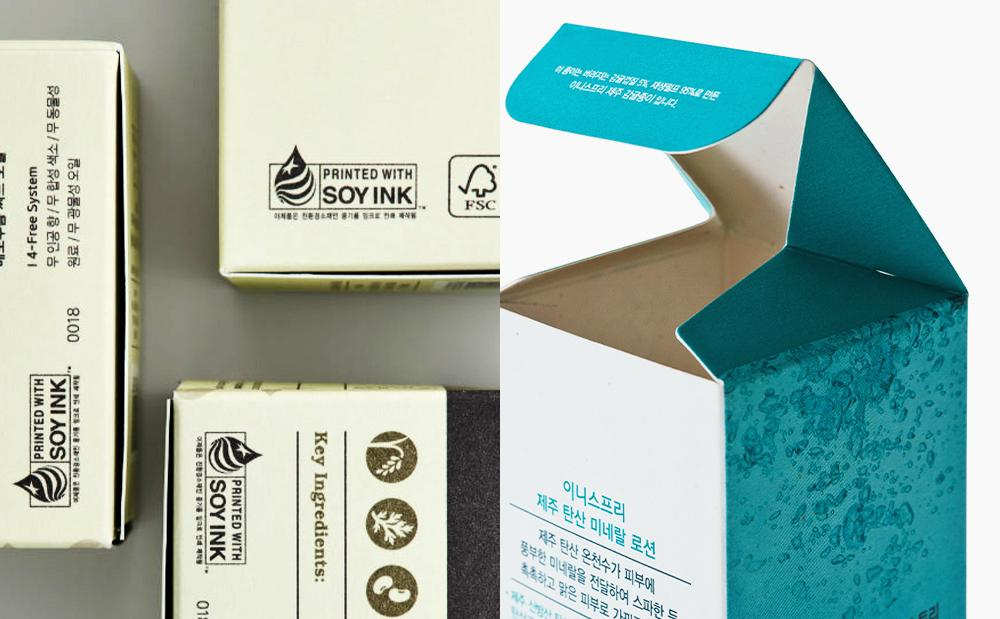cardboard: (500, 0, 965, 618), (220, 0, 498, 289), (0, 41, 139, 549), (169, 384, 446, 618)
